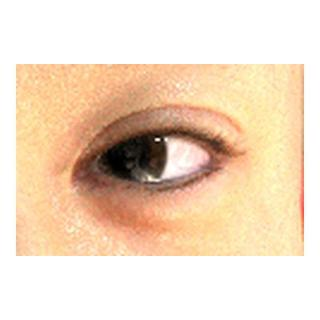pupil: (108, 136, 144, 172)
